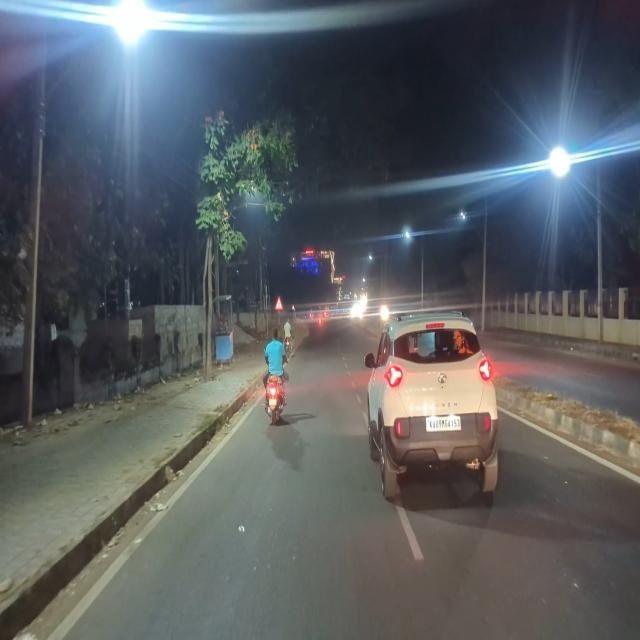bien_nguy_hiem: (275, 295, 284, 311)
